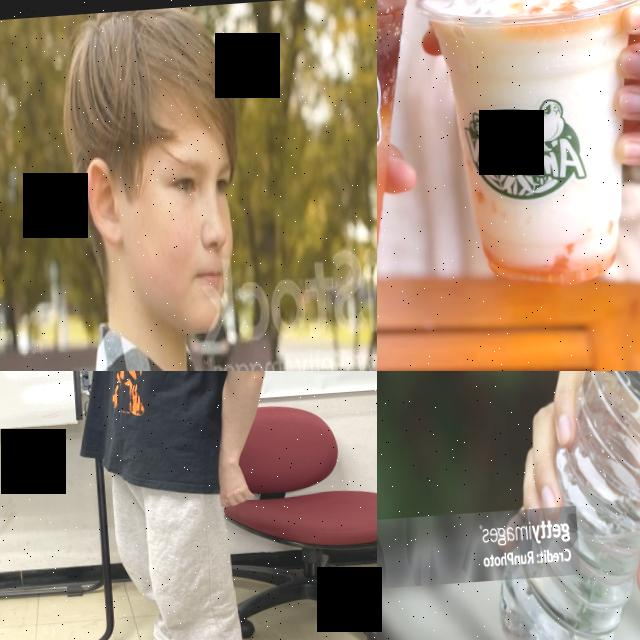bottle: (471, 371, 640, 640)
cup: (417, 0, 640, 295), (377, 0, 453, 314)
